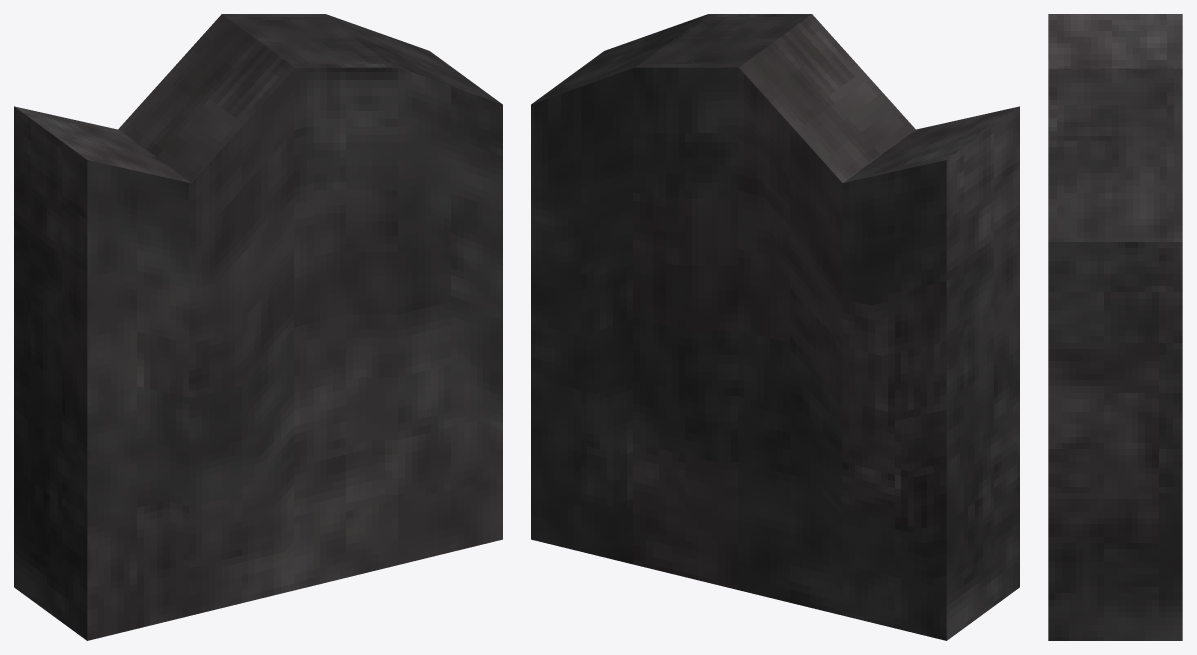
Rendered from balk_16.glb.
3 views of the same model, side by side, from view 1: azimuth 30°, elevation 25°; view 2: azimuth 150°, elevation 25°; view 3: azimuth 270°, elevation 25° (orthographic). The views are drawn at different scales.
Parts seen in each view (by area): view 1: Куб.011; view 2: Куб.011; view 3: Куб.011.
Part boxes in pixels (x1=…): Куб.011: x1=14, y1=14, x2=502, y2=640; Куб.011: x1=531, y1=14, x2=1019, y2=640; Куб.011: x1=1048, y1=14, x2=1182, y2=640.
Size of the model in its own units: 2.49 by 2.99 by 0.7589.
Materials: 1 (1 with a texture image).
